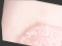plaque psoriasis: (15, 18, 62, 46)
